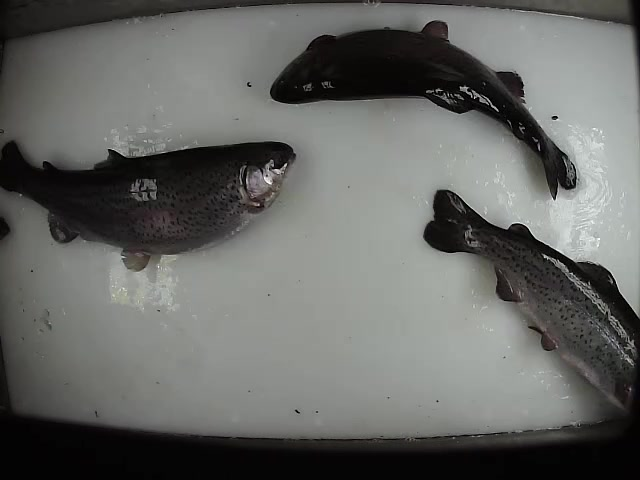fish: (267, 11, 582, 206), (421, 186, 640, 416), (1, 137, 300, 276)
